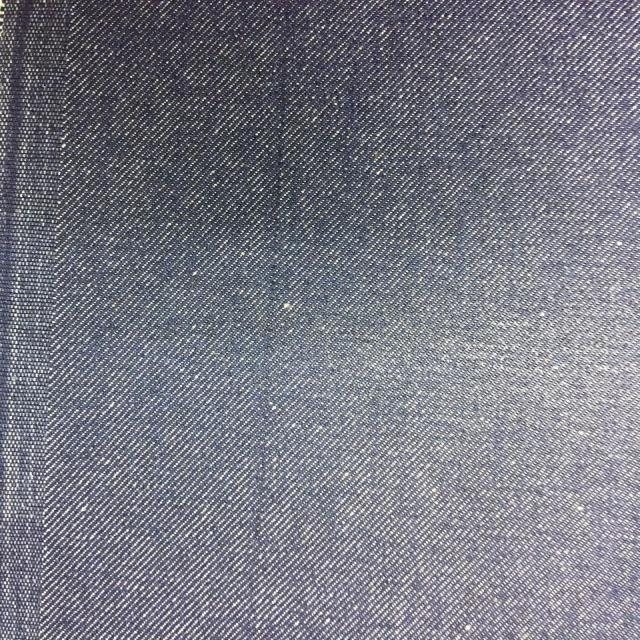Line: (242, 20, 295, 627)
